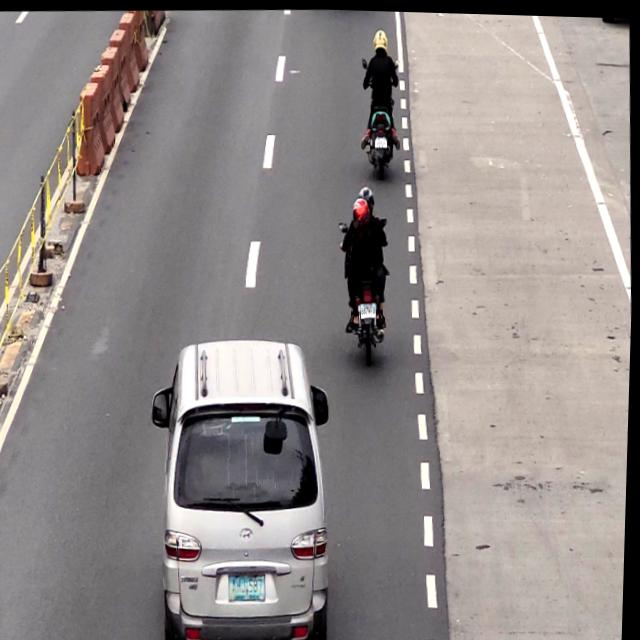Car: (156, 330, 341, 640)
License-Plate: (228, 568, 271, 604), (361, 298, 379, 317), (374, 133, 389, 148)
Motorcycle: (344, 183, 389, 358), (357, 24, 405, 171)
